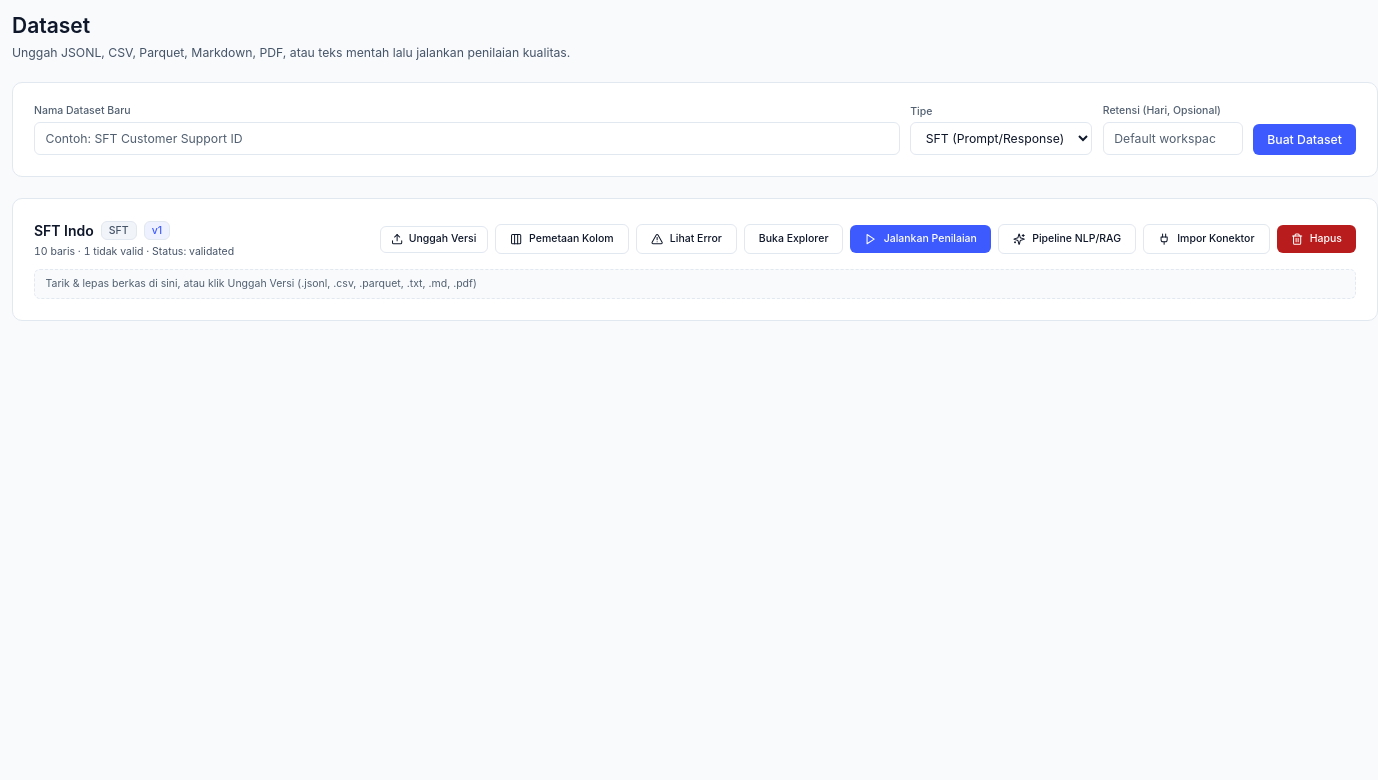
Stage 2 MVP P0 & i18n UI › supports Column Mapping and Validation Errors download on DatasetsPage
Later steps or results of the test are not shown.
Click the button "Pemetaan Kolom". click: (562, 239)
box: [495, 224, 628, 254]
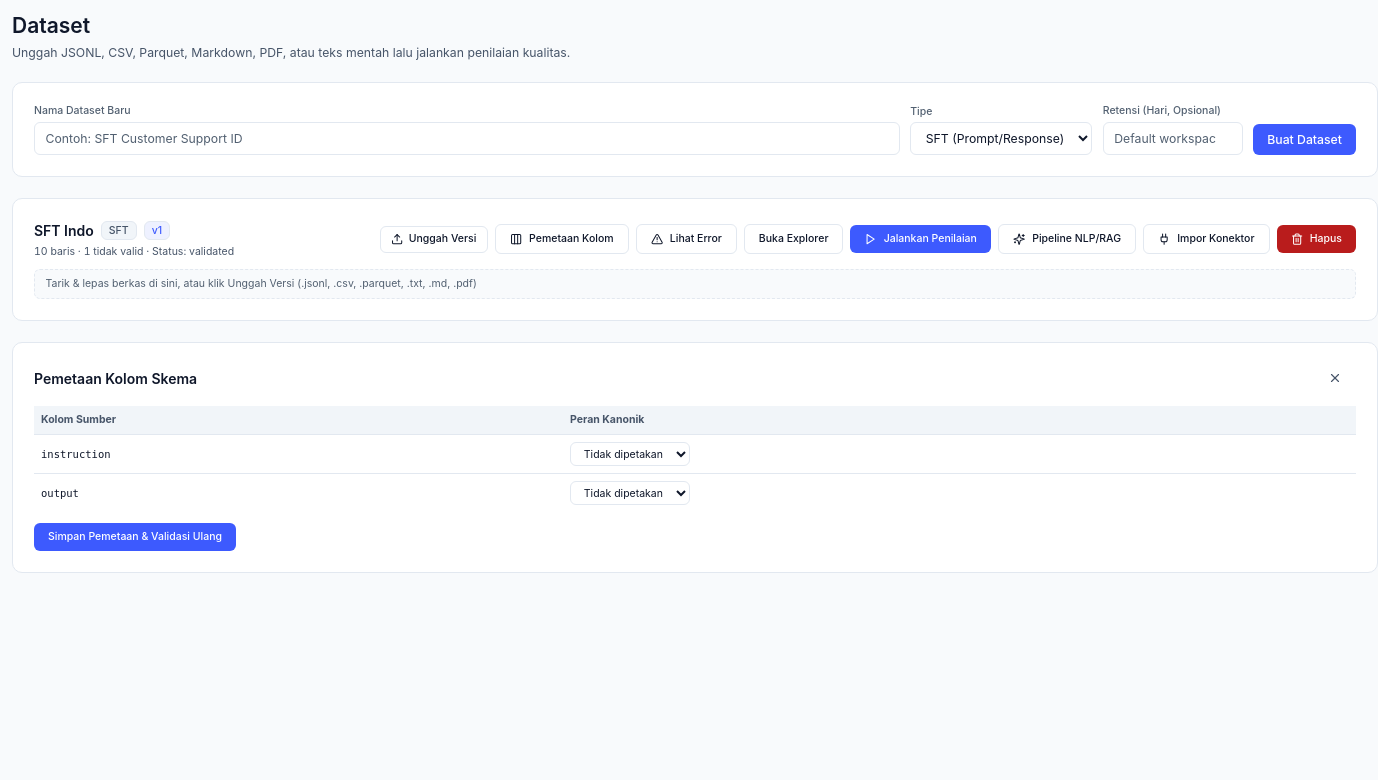
Select "prompt" in the dropdown named "instruction". click: (630, 454)
box: [570, 442, 690, 466]
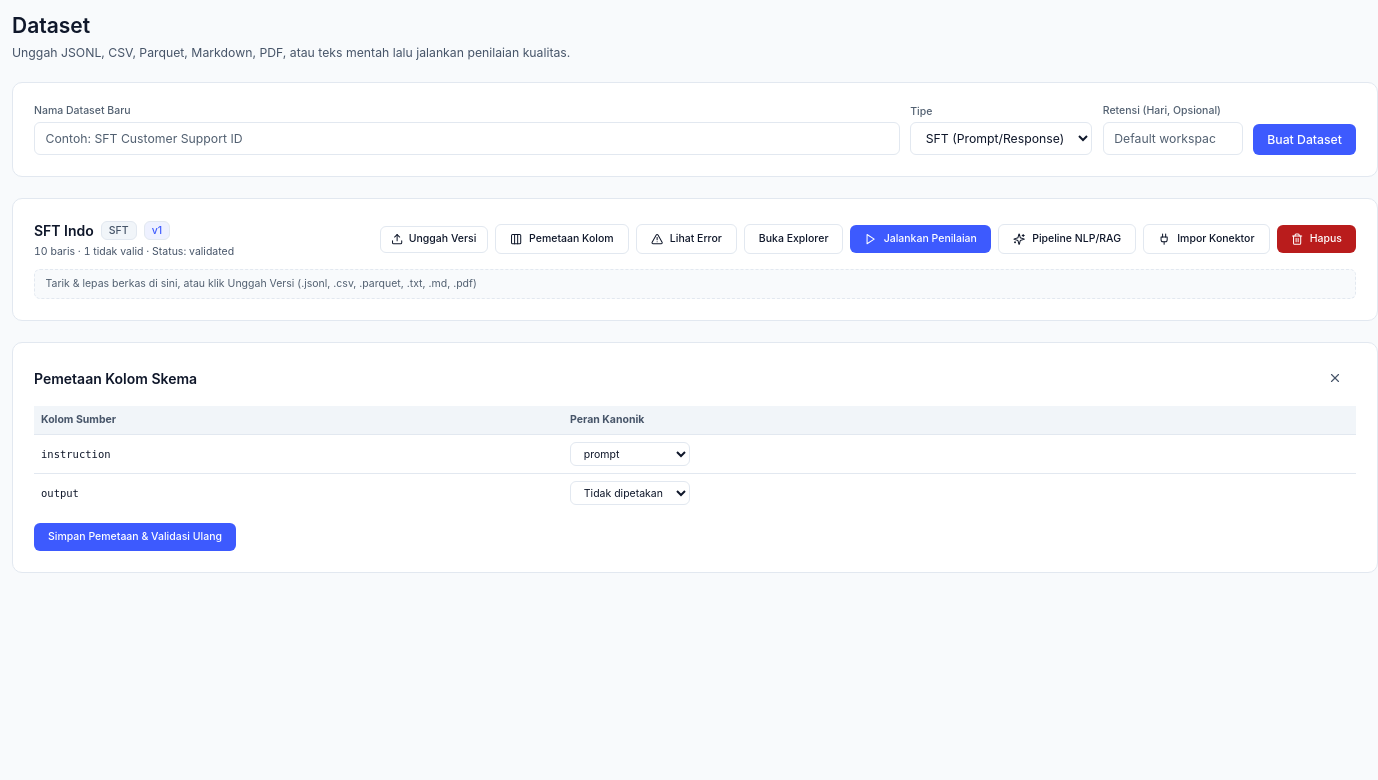
Click the button "Simpan Pemetaan & Validasi Ulang". click: (135, 536)
box: [34, 522, 236, 550]
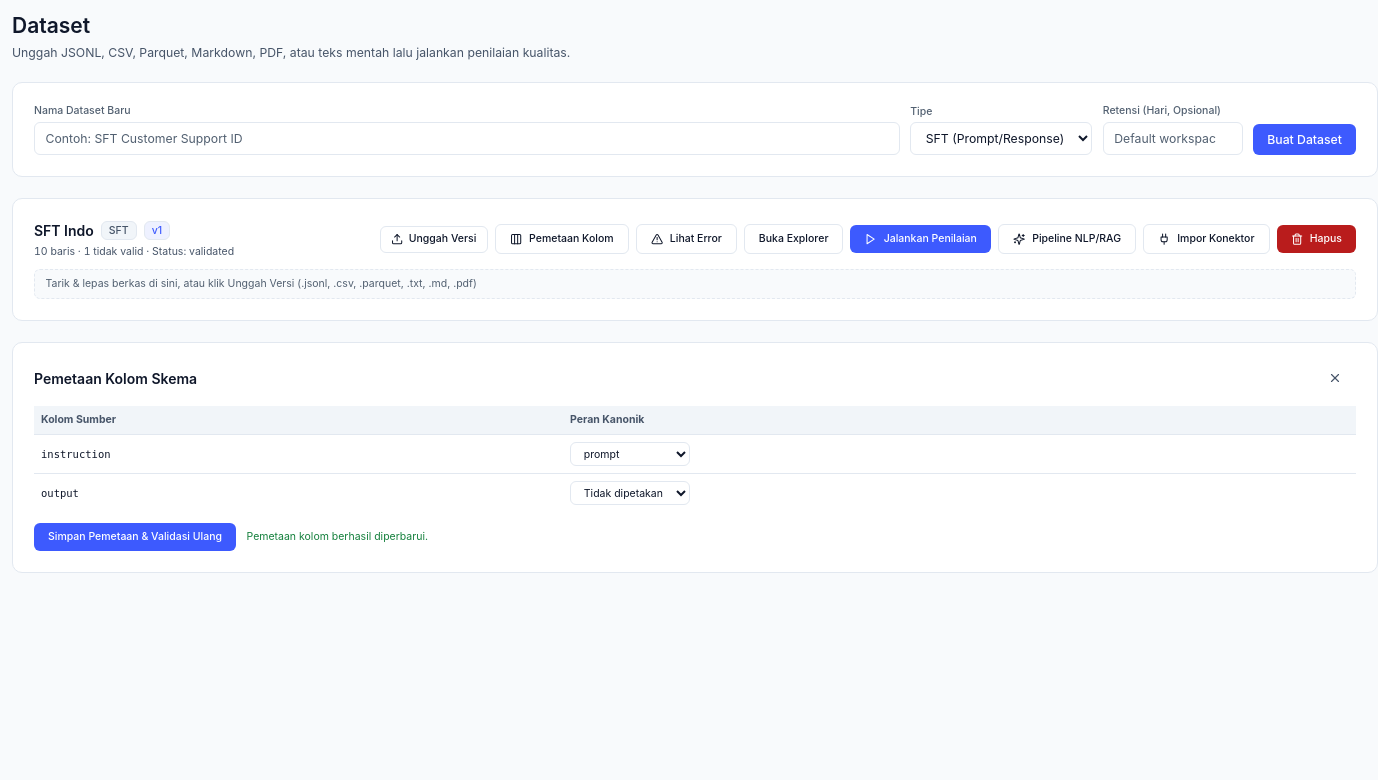
Click the button "Lihat Error". click: (686, 239)
box: [636, 224, 737, 254]
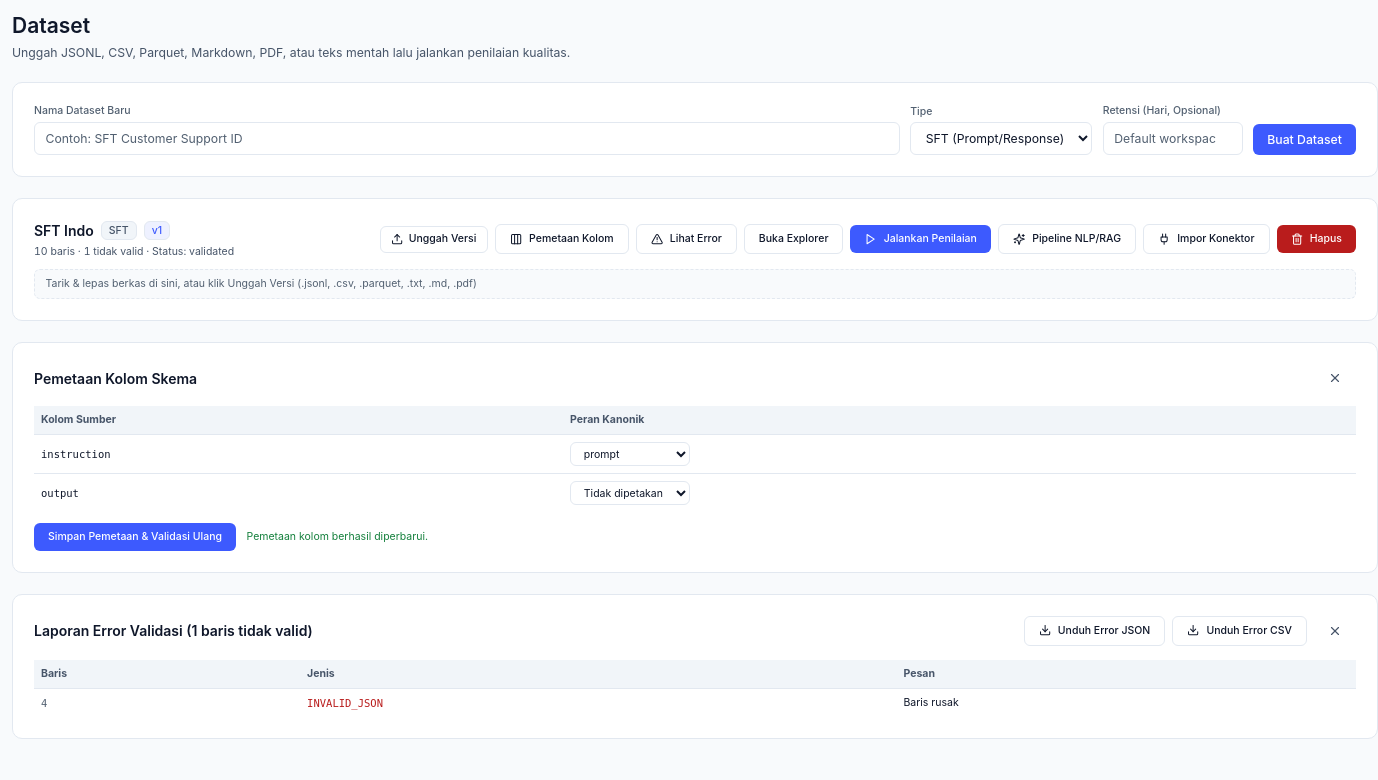
Check: the text "INVALID_JSON" is shown, box [300, 688, 896, 716]
